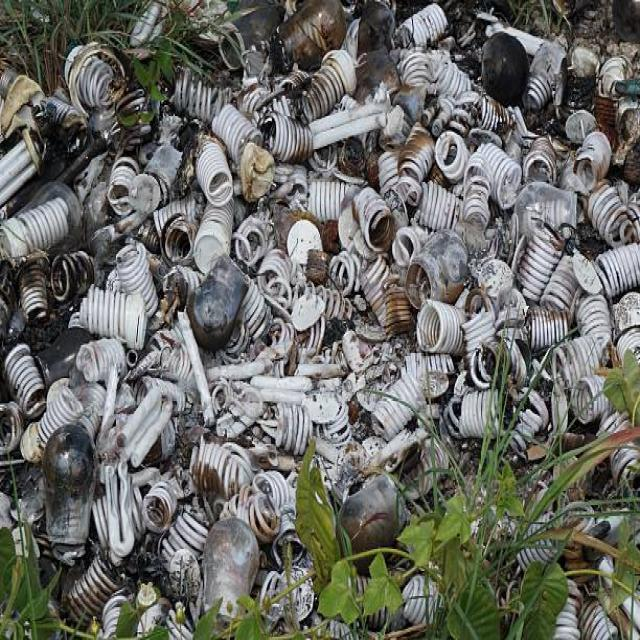glass: (324, 184, 611, 420), (18, 113, 288, 342), (306, 78, 622, 168), (148, 361, 402, 458)
